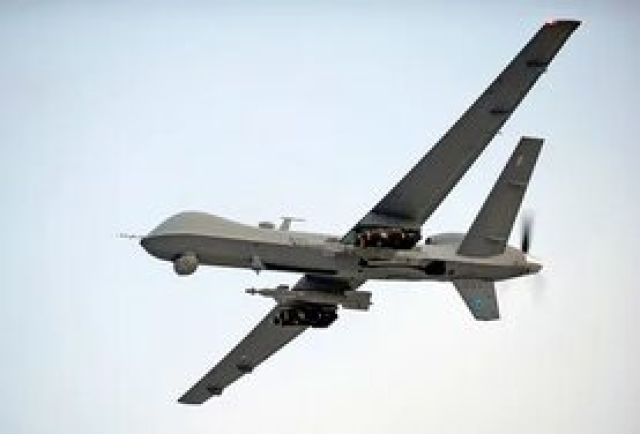military drone: (115, 18, 581, 405)
